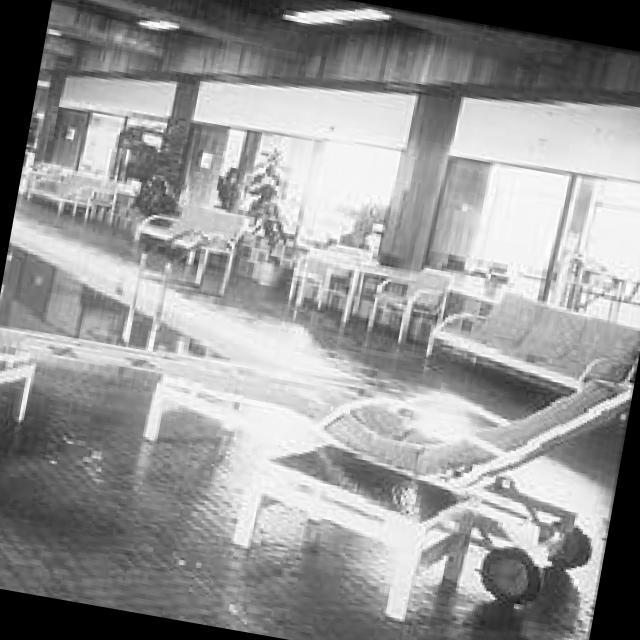2001: (419, 155, 570, 307), (292, 136, 401, 251)
ceiling beam: (39, 0, 640, 104)
chair -occluded-: (364, 268, 445, 338)
deck chair: (138, 353, 629, 602)
floor -X: (0, 184, 623, 640)
heated swimming pool: (0, 238, 215, 352)
lamp crop: (281, 2, 389, 23), (132, 15, 179, 31)
sofa bed: (423, 287, 638, 389), (130, 201, 247, 285)
table -X: (228, 441, 472, 619)
table runner: (286, 248, 427, 321)
wall clock: (19, 70, 640, 417)
